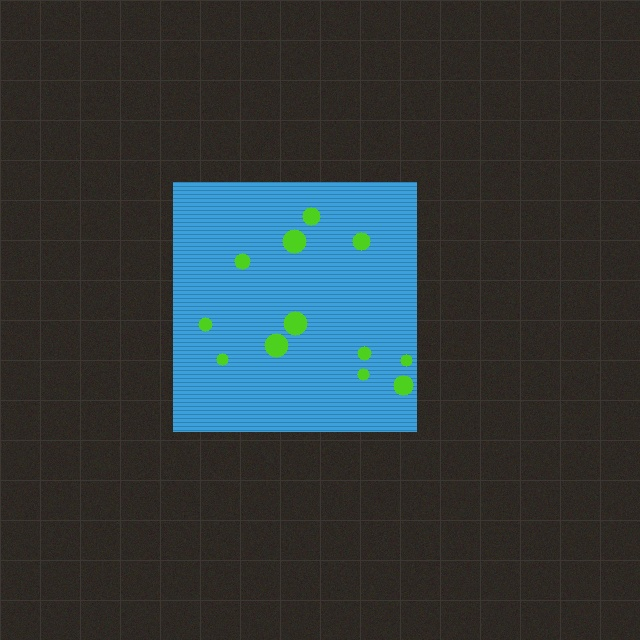over_extrusion: (168, 177, 421, 436)
